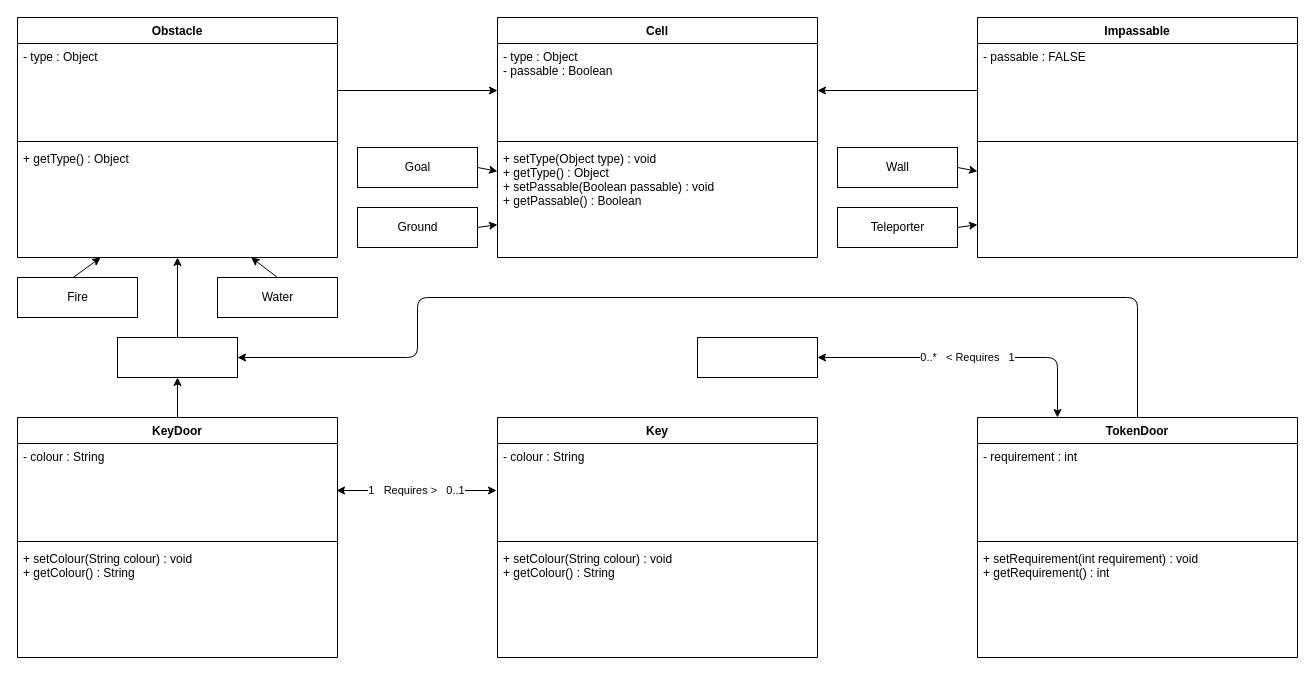
Image size: 1315x678. Some labels were removed from this diagram. Each missing label, with the centre of its shape:
Door: pixel 177 357
Token: pixel 757 357
